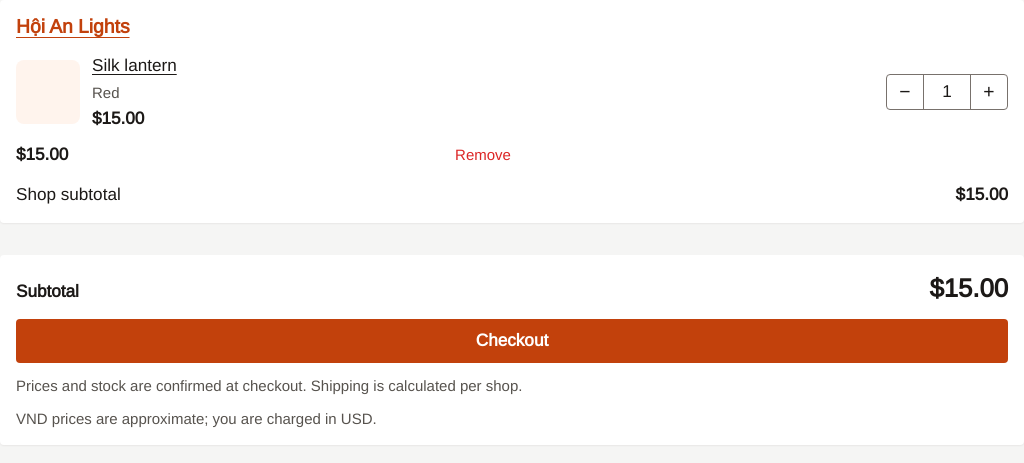
Test: CartView › changes quantities and removes lines
The image size is (1024, 463).
Click the button named "Increase quantity" at [989, 92], box [971,75,1007,109]
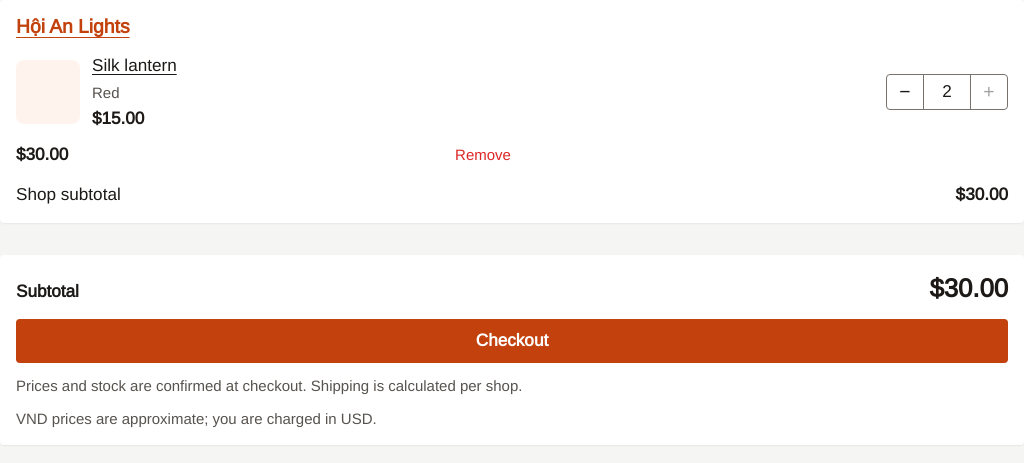
Expected: the button named "Increase quantity" is disabled, [971,75,1007,109]
Expected: the element named "Order summary" shows "$30.00", [929,274,1008,303]
Click the button with aria-label "Remove Silk lantern from cart" at [483, 155], box [92,144,874,165]
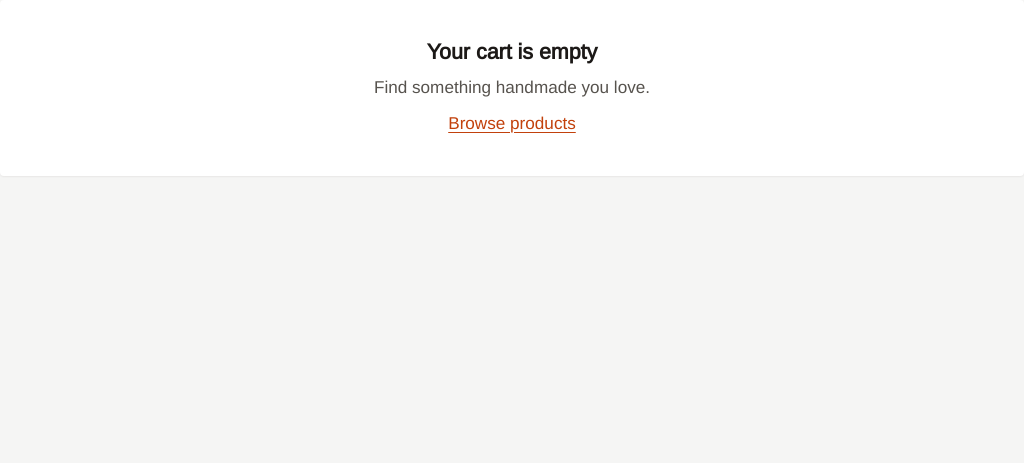
Expected: the heading "Your cart is empty" is shown, [427,40,597,64]
